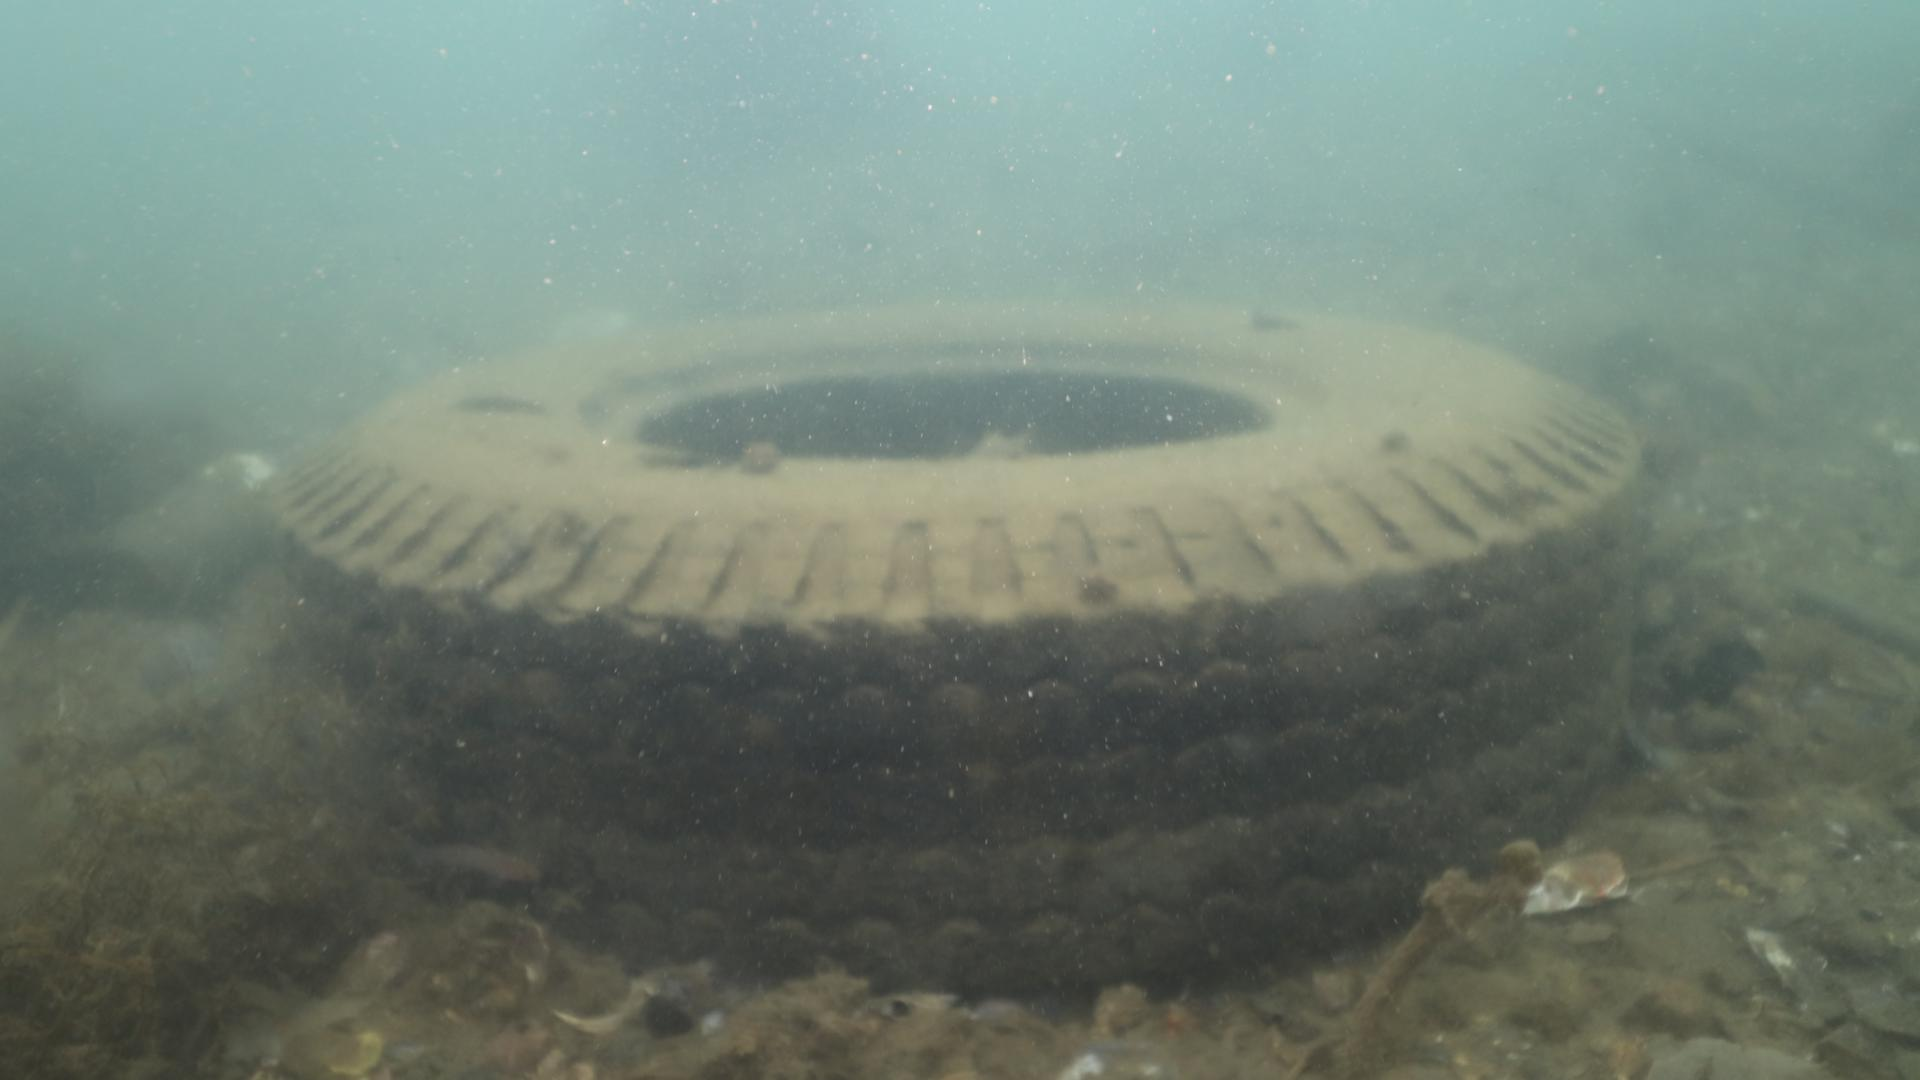tire: (266, 297, 1644, 1011)
